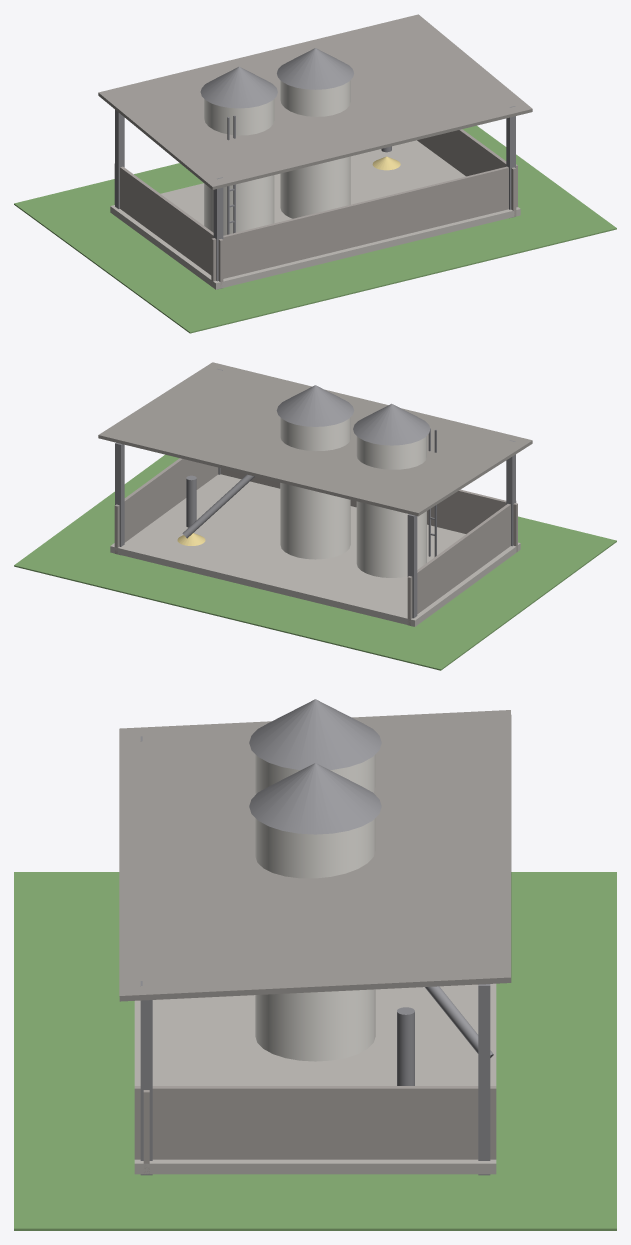
File: grain_storage_shed.glb
3 views of the same model, one above another, from view 1: azimuth 30°, elevation 25°; view 2: azimuth 150°, elevation 25°; view 3: azimuth 270°, elevation 25° (orthographic). The views are drawn at different scales.
Parts seen in each view (by area): view 1: roof, ground, back_wall_low, foundation, silo_2_body, silo_1_body, left_wall_low, right_wall_low, silo_2_cap, silo_1_cap, post_fl, post_bl (+1 smaller); view 2: ground, roof, foundation, silo_2_body, silo_1_body, left_wall_low, right_wall_low, back_wall_low, silo_2_cap, silo_1_cap, post_fl, post_fr (+3 smaller); view 3: ground, roof, foundation, right_wall_low, silo_2_body, silo_2_cap, silo_1_cap, post_fr, post_br, silo_1_body, spout, auger.
Part boxes in pixels (x1=…): roof: x1=98, y1=14, x2=532, y2=189; ground: x1=14, y1=125, x2=616, y2=333; back_wall_low: x1=211, y1=164, x2=517, y2=286; foundation: x1=110, y1=140, x2=520, y2=289; silo_2_body: x1=280, y1=80, x2=350, y2=218; silo_1_body: x1=204, y1=99, x2=274, y2=235; left_wall_low: x1=114, y1=163, x2=223, y2=286; right_wall_low: x1=417, y1=129, x2=516, y2=216; silo_2_cap: x1=277, y1=48, x2=353, y2=89; silo_1_cap: x1=200, y1=66, x2=277, y2=108; post_fl: x1=115, y1=110, x2=124, y2=208; post_bl: x1=213, y1=177, x2=223, y2=289; ground: x1=14, y1=454, x2=616, y2=670; roof: x1=98, y1=362, x2=532, y2=516; foundation: x1=110, y1=474, x2=520, y2=626; silo_2_body: x1=280, y1=417, x2=350, y2=559; silo_1_body: x1=356, y1=436, x2=426, y2=577; left_wall_low: x1=407, y1=501, x2=516, y2=625; right_wall_low: x1=114, y1=458, x2=218, y2=554; back_wall_low: x1=220, y1=468, x2=517, y2=552; silo_2_cap: x1=276, y1=385, x2=354, y2=426; silo_1_cap: x1=353, y1=403, x2=430, y2=445; post_fl: x1=407, y1=514, x2=417, y2=626; post_fr: x1=115, y1=442, x2=124, y2=555; ground: x1=14, y1=872, x2=616, y2=1230; roof: x1=119, y1=710, x2=511, y2=1001; foundation: x1=134, y1=983, x2=496, y2=1174; right_wall_low: x1=134, y1=1086, x2=496, y2=1159; silo_2_body: x1=255, y1=818, x2=375, y2=1061; silo_2_cap: x1=249, y1=763, x2=381, y2=834; silo_1_cap: x1=249, y1=699, x2=381, y2=769; post_fr: x1=478, y1=984, x2=490, y2=1175; post_br: x1=140, y1=981, x2=152, y2=1175; silo_1_body: x1=255, y1=754, x2=375, y2=793; spout: x1=397, y1=1007, x2=414, y2=1085; auger: x1=425, y1=986, x2=493, y2=1057.
Size of the model in its own units: 14 by 5.3 by 10.
